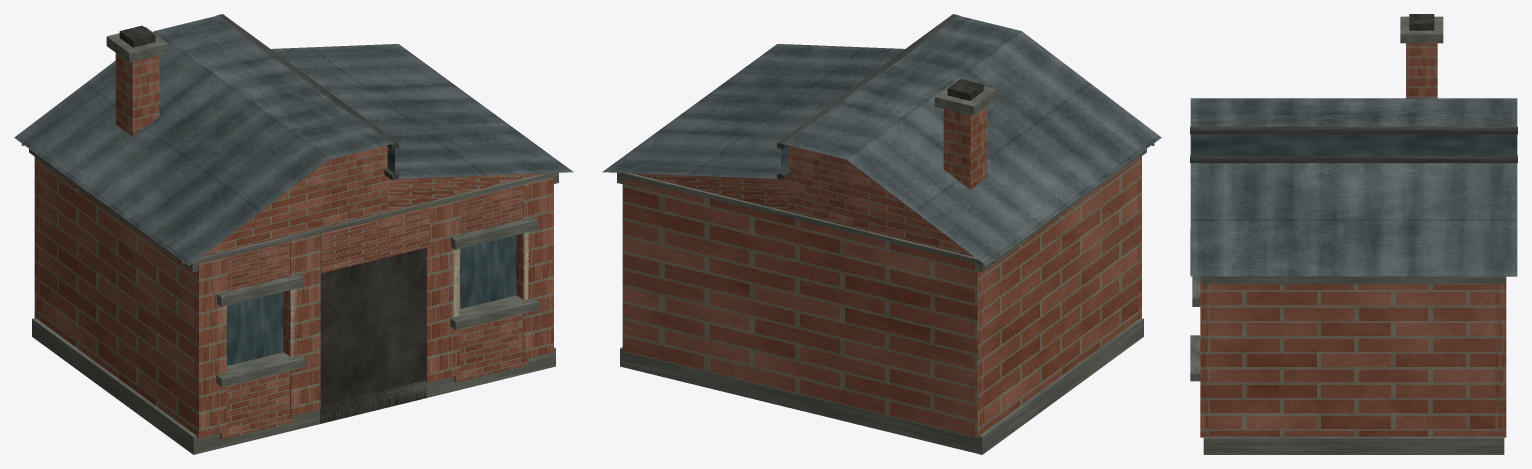
The model's file is trackside_workshop_lod.gltf.
3 renders of one model, left to right at view 1: azimuth 30°, elevation 25°; view 2: azimuth 150°, elevation 25°; view 3: azimuth 270°, elevation 25°, orthographic. The views are drawn at different scales.
Parts seen in each view (by area): view 1: trackside_workshop_lod; view 2: trackside_workshop_lod; view 3: trackside_workshop_lod.
Boxes of the visible parts, x1=… form: trackside_workshop_lod: x1=14, y1=14, x2=573, y2=454; trackside_workshop_lod: x1=602, y1=14, x2=1161, y2=454; trackside_workshop_lod: x1=1190, y1=14, x2=1517, y2=454.
Bounding box in the file's own units: 6.28 × 5.01 × 4.98.
1 material, 1 textured.
